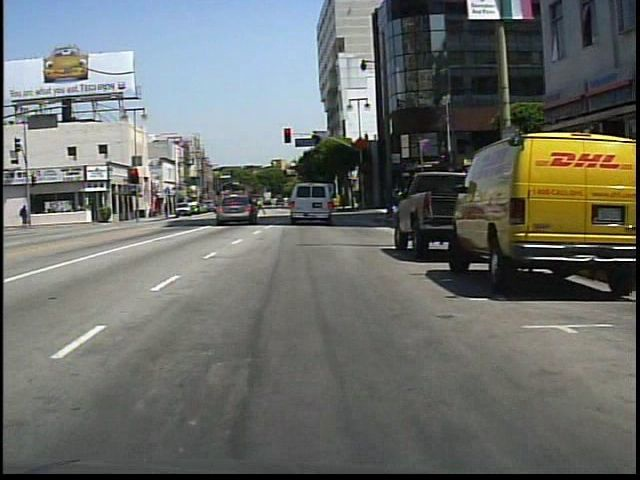person: (287, 191, 304, 222), (258, 194, 269, 219), (20, 202, 30, 228)
